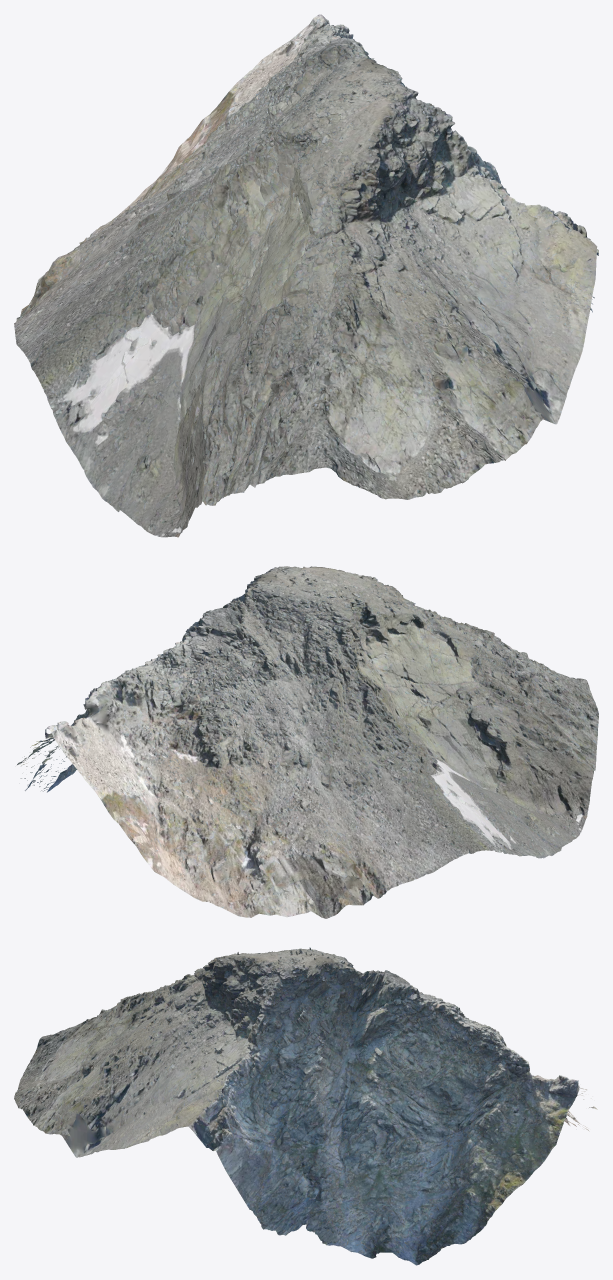
The model's file is mountain.glb.
3 renders of one model, top to bottom at view 1: azimuth 30°, elevation 25°; view 2: azimuth 150°, elevation 25°; view 3: azimuth 270°, elevation 25°, orthographic. The views are drawn at different scales.
Parts seen in each view (by area): view 1: Skybox.001_moosstock_Model_8_u1_v1_0; view 2: Skybox.001_moosstock_Model_8_u1_v1_0; view 3: Skybox.001_moosstock_Model_8_u1_v1_0.
Boxes of the visible parts, bbox=[...] form: Skybox.001_moosstock_Model_8_u1_v1_0: bbox=[14, 14, 598, 537]; Skybox.001_moosstock_Model_8_u1_v1_0: bbox=[17, 566, 598, 918]; Skybox.001_moosstock_Model_8_u1_v1_0: bbox=[14, 947, 597, 1265].
Size of the model in its own units: 2.39 by 1.37 by 2.92.
1 material, 1 textured.
